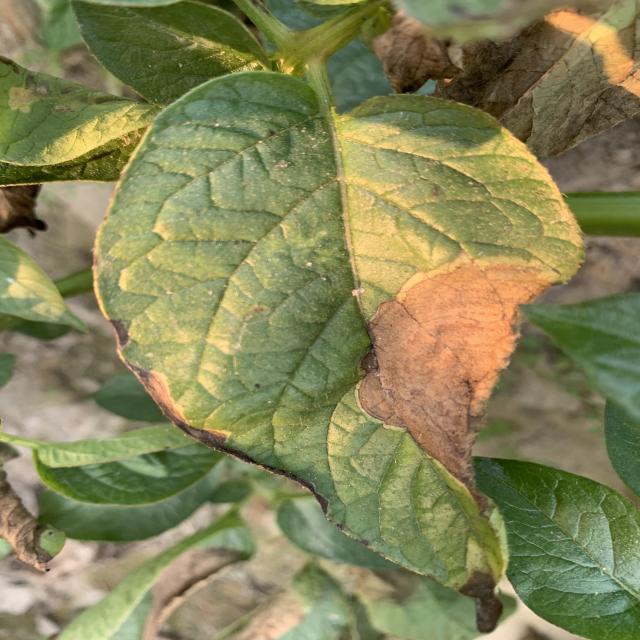lateblight: (358, 258, 555, 509), (97, 278, 280, 466)
